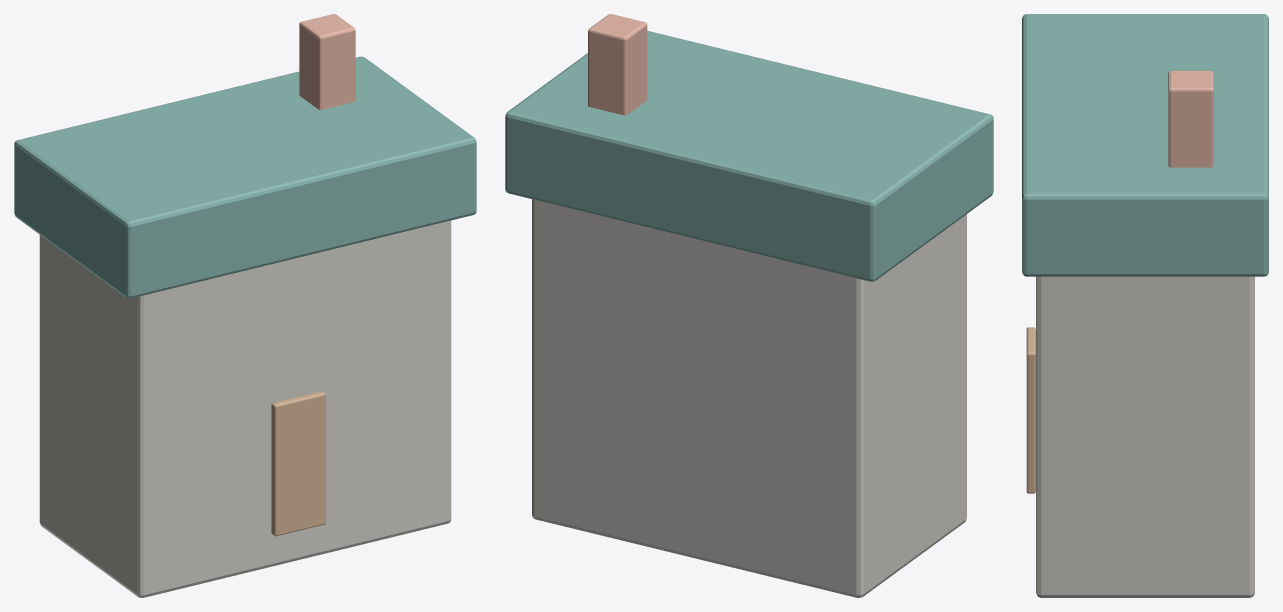
Rendered from dollhouse_cottage.glb.
3 renders of one model, left to right at view 1: azimuth 30°, elevation 25°; view 2: azimuth 150°, elevation 25°; view 3: azimuth 270°, elevation 25°, orthographic. The views are drawn at different scales.
Parts seen in each view (by area): view 1: Body.001, Roof.001, Door.001, Chimney; view 2: Body.001, Roof.001, Chimney; view 3: Body.001, Roof.001, Chimney, Door.001.
Part boxes in pixels (<box>): Body.001: <box>39,220,451,597</box>; Roof.001: <box>14,56,476,298</box>; Door.001: <box>271,391,325,536</box>; Chimney: <box>299,14,355,109</box>; Body.001: <box>532,199,966,597</box>; Roof.001: <box>505,30,993,281</box>; Chimney: <box>588,14,647,115</box>; Body.001: <box>1036,276,1254,597</box>; Roof.001: <box>1022,14,1268,276</box>; Chimney: <box>1168,70,1213,167</box>; Door.001: <box>1026,327,1035,493</box>.
Size of the model in its own units: 0.95 by 1.19 by 0.54.
